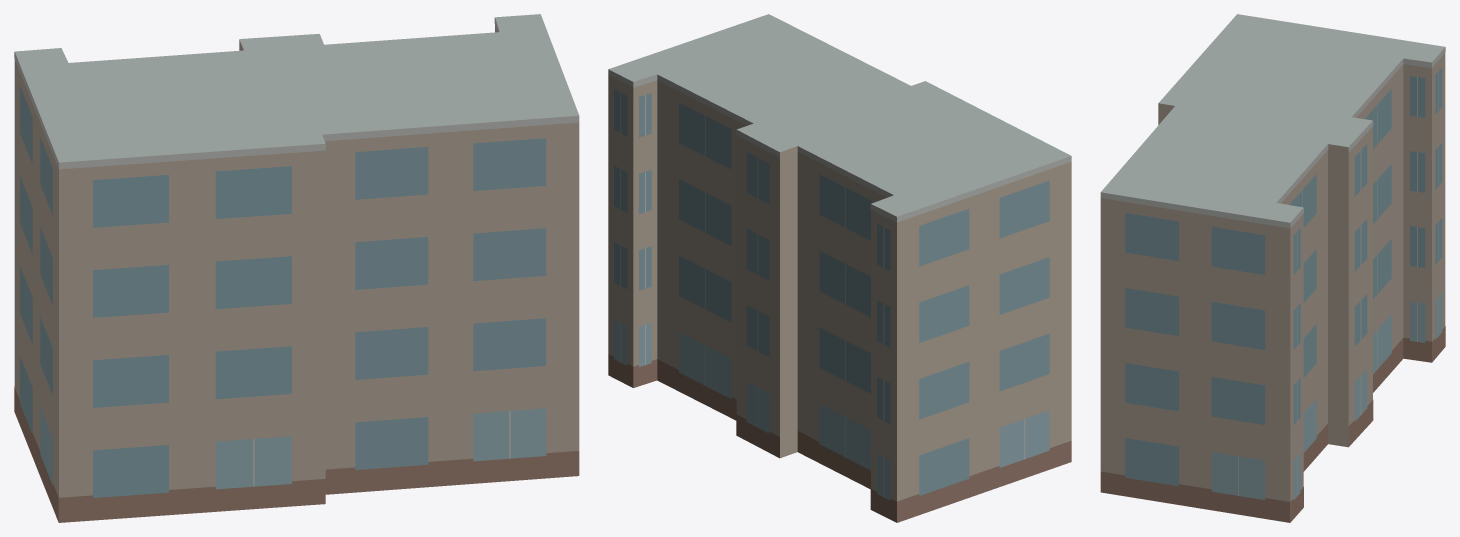
Rendered from survey-upis-32701490.glb.
3 views of the same model, side by side, from view 1: azimuth 30°, elevation 25°; view 2: azimuth 150°, elevation 25°; view 3: azimuth 270°, elevation 25° (orthographic). The views are drawn at different scales.
Visible parts, largest first — view 1: survey-upis-32701490.tmp; view 2: survey-upis-32701490.tmp; view 3: survey-upis-32701490.tmp.
Boxes of the visible parts, x1,y1,x2,y2 form: survey-upis-32701490.tmp: (14, 14, 579, 522); survey-upis-32701490.tmp: (608, 14, 1071, 522); survey-upis-32701490.tmp: (1100, 14, 1445, 522).
Size of the model in its own units: 19.41 by 13 by 13.55.
